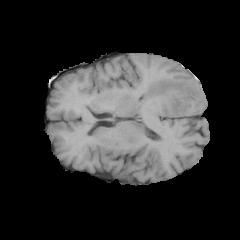glioma: (142, 76, 188, 114)
